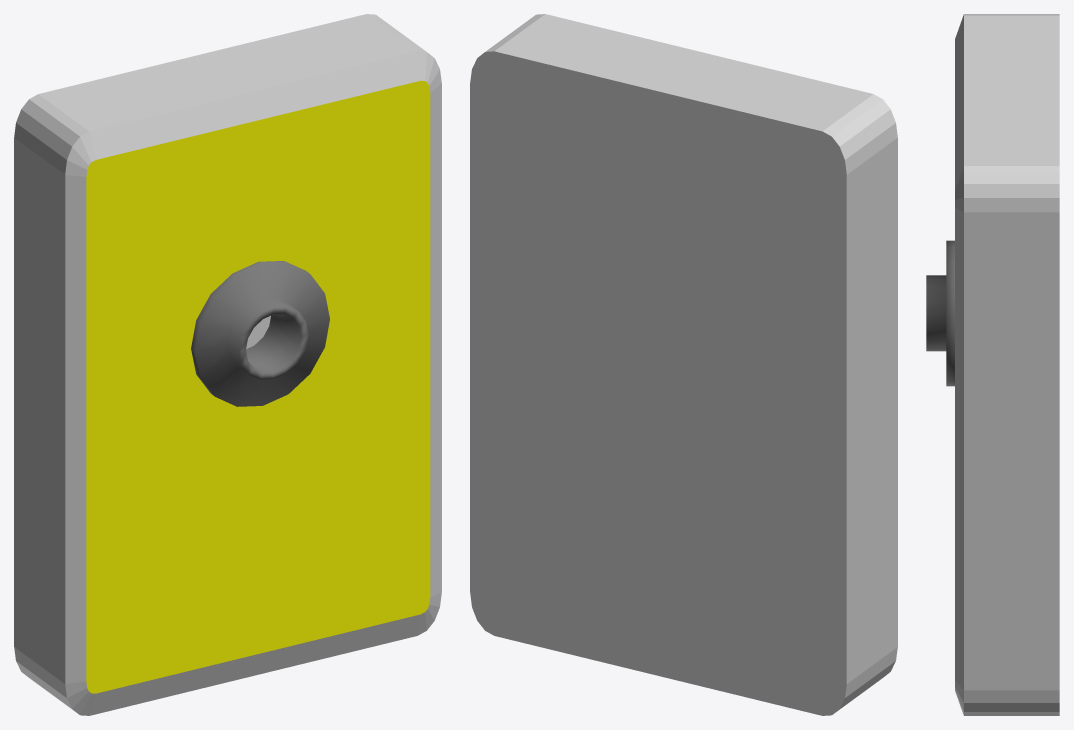
The picture shows the model from 3 angles, left to right: view 1: azimuth 30°, elevation 25°; view 2: azimuth 150°, elevation 25°; view 3: azimuth 270°, elevation 25°; orthographic projection. The views are drawn at different scales.
Visible parts, largest first — view 1: EM-48; view 2: EM-48; view 3: EM-48.
Part boxes in pixels (x1,y1,x2,y2): EM-48: (14, 14, 441, 715); EM-48: (470, 14, 897, 715); EM-48: (926, 14, 1059, 715).
Size of the model in its own units: 200 by 297 by 65.42.
